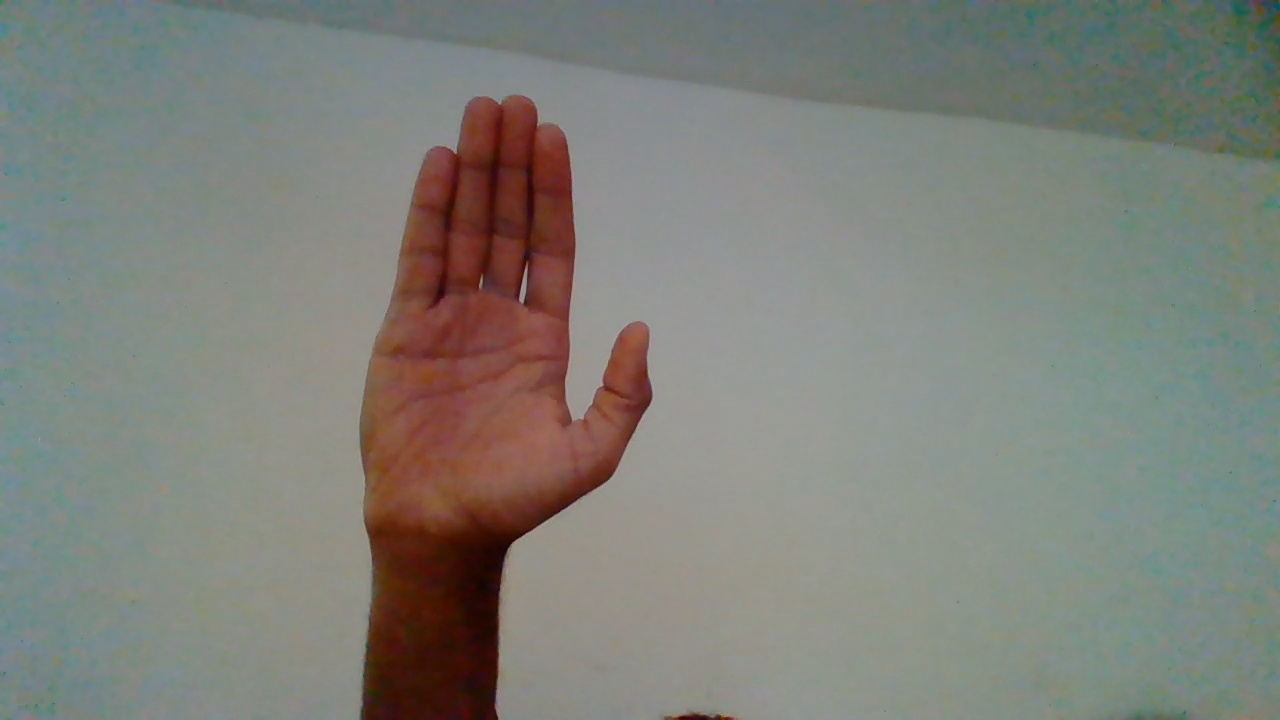ha: (363, 96, 657, 640)
